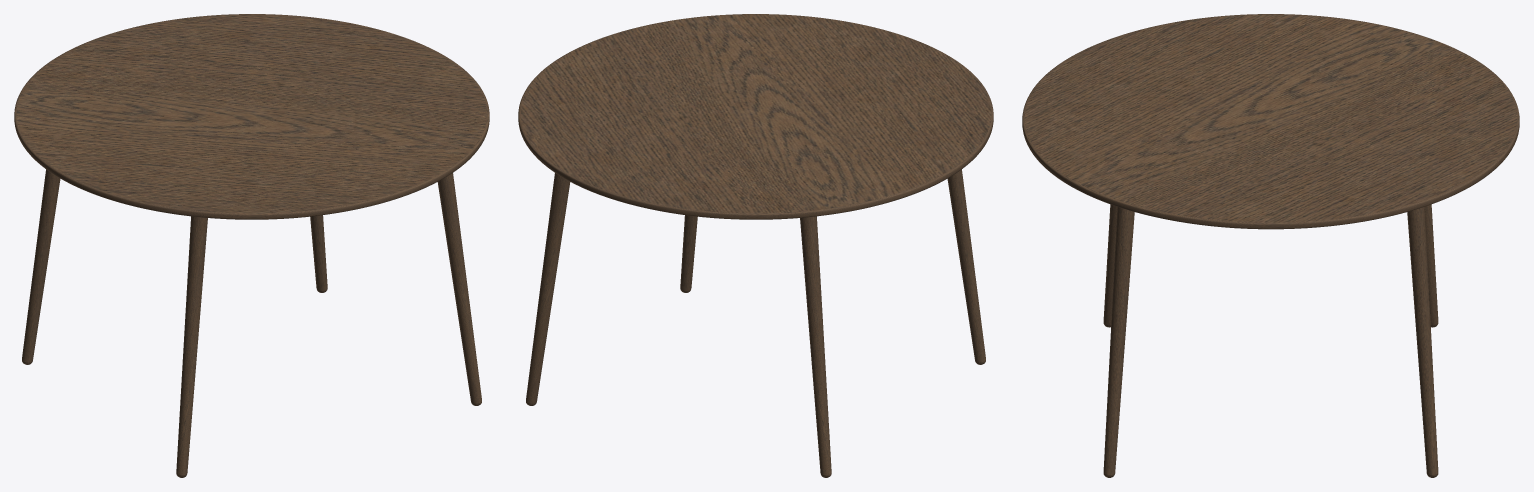
3 views of the same model, side by side, from view 1: azimuth 30°, elevation 25°; view 2: azimuth 150°, elevation 25°; view 3: azimuth 270°, elevation 25° (orthographic). The views are drawn at different scales.
Visible parts, largest first — view 1: Dining table; view 2: Dining table; view 3: Dining table.
Part boxes in pixels (x1,y1,x2,y2): Dining table: [14, 14, 489, 477]; Dining table: [518, 14, 993, 477]; Dining table: [1022, 14, 1519, 477].
Size of the model in its own units: 1.19 by 0.7493 by 1.19.
1 material, 1 textured.
